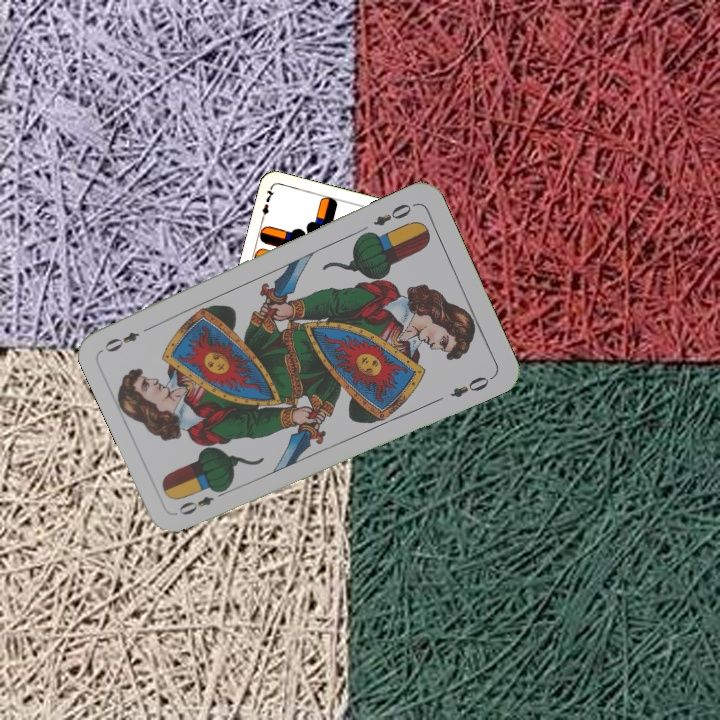E7: (257, 185, 277, 225)
EO: (174, 485, 230, 518), (369, 199, 418, 229)
